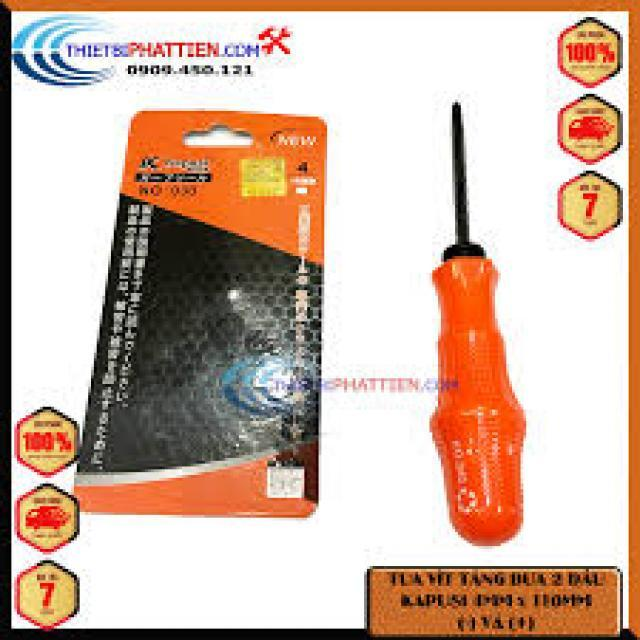screwdriver: (430, 96, 530, 546)
